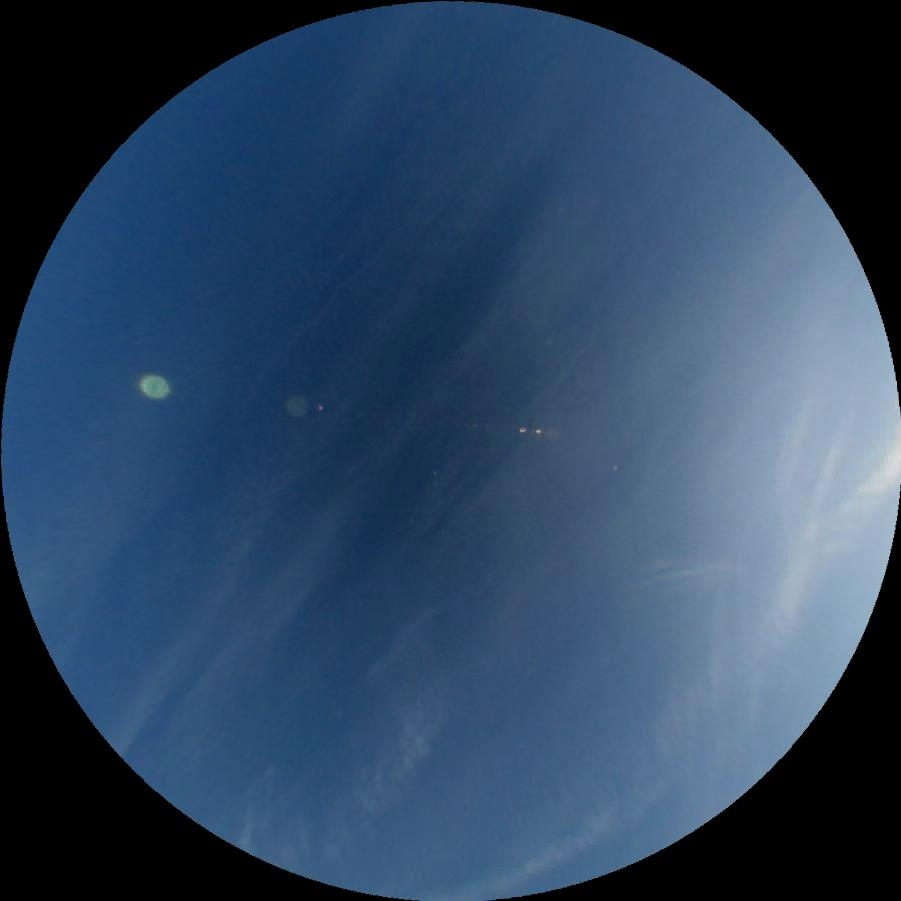contrail veryold: (230, 714, 474, 901), (429, 799, 632, 901)
